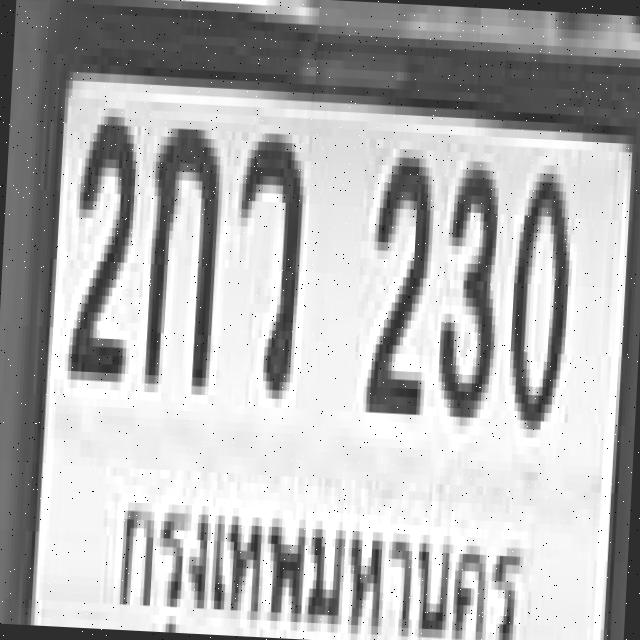0: (504, 160, 571, 418)
10GorGai: (142, 115, 220, 382)
2: (64, 106, 136, 374), (363, 144, 430, 402)
3: (434, 147, 501, 406)
46WorWaen: (228, 124, 302, 391)
Bangkok: (112, 476, 527, 640)
